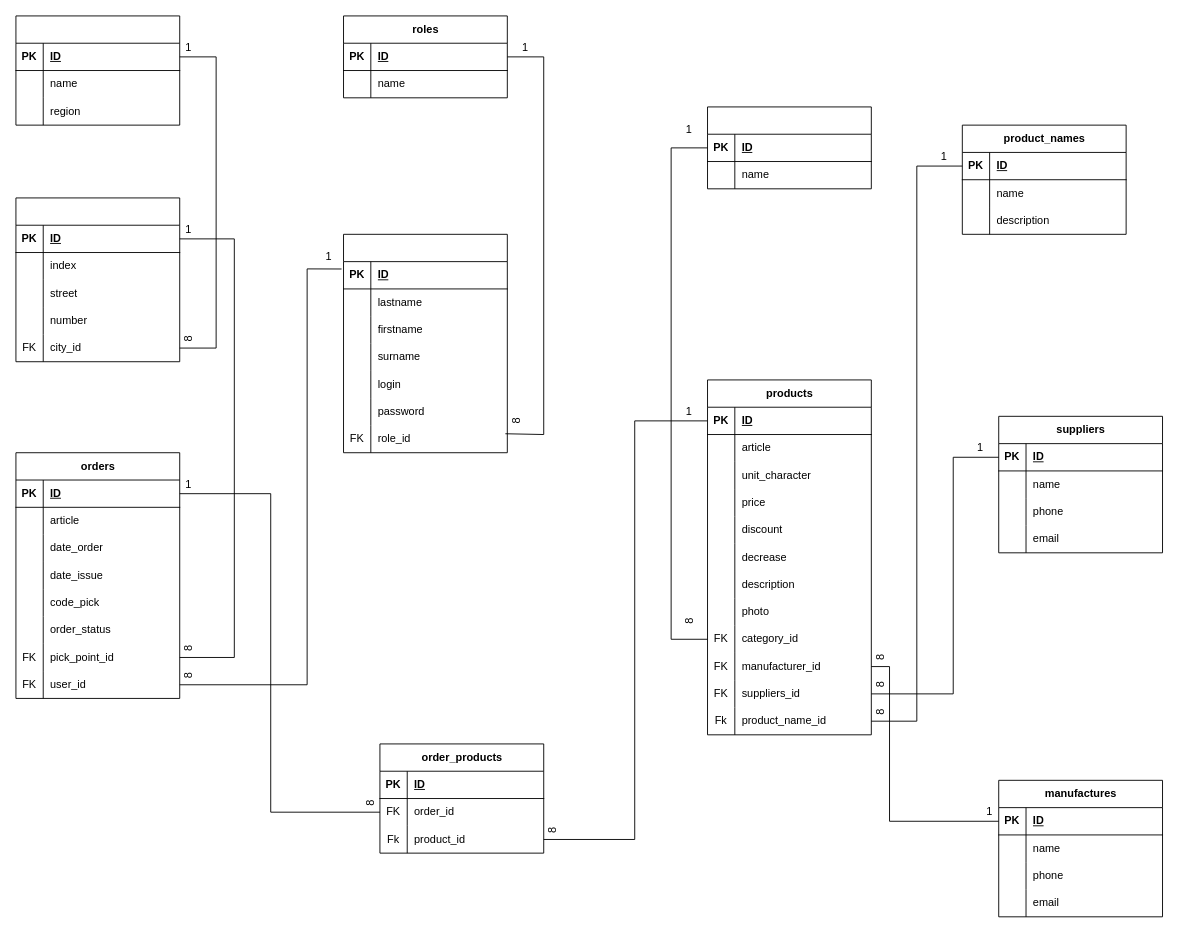
The diagram is 1178 pixels wide and 933 high, and some of its shapes have lost their labels. The box of each missing label's shape, as (x1, y1, x2, y2) in pixels:
cities: (15, 15, 180, 125)
pick_point: (15, 197, 180, 362)
product_categories: (707, 106, 871, 189)
users: (343, 233, 507, 453)
